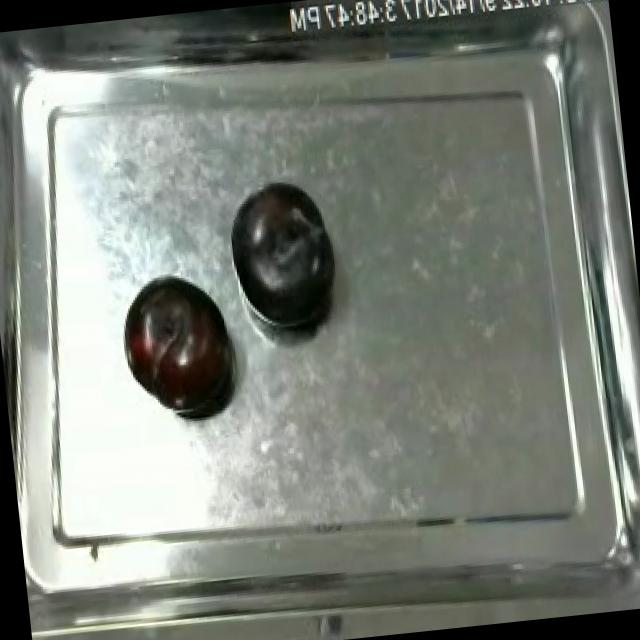Fruit: (112, 264, 248, 432), (219, 172, 349, 342)
